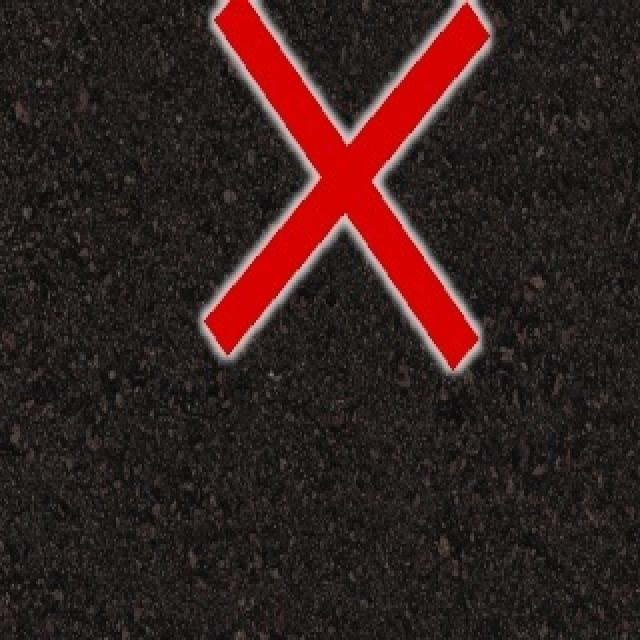x_marker: (203, 0, 487, 368)
